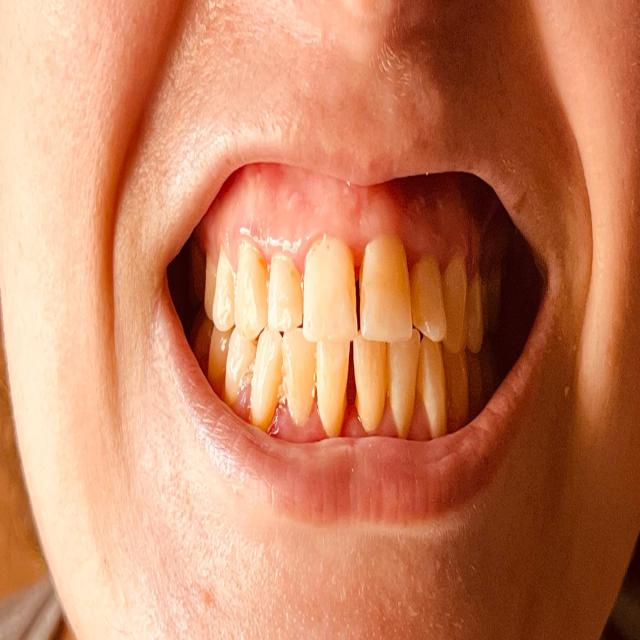tooth: (360, 241, 408, 332), (311, 260, 355, 334), (352, 342, 384, 432), (253, 335, 283, 419), (318, 340, 346, 430), (414, 261, 444, 343), (286, 340, 314, 422), (423, 346, 447, 434), (236, 243, 262, 324), (276, 264, 302, 326), (394, 346, 414, 425), (445, 268, 465, 342), (454, 350, 471, 423), (229, 336, 249, 398), (217, 257, 233, 323), (468, 278, 482, 352), (211, 324, 227, 376), (472, 356, 486, 411)
